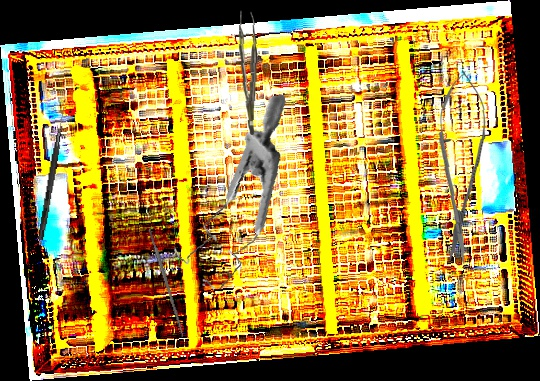Hook Surgical: (38, 106, 66, 241)
Micro Scissor: (432, 69, 489, 265)
Scalpel Handle: (147, 227, 186, 338)
Speculum: (154, 94, 311, 295)
Tissue Forceps: (233, 9, 261, 136)
